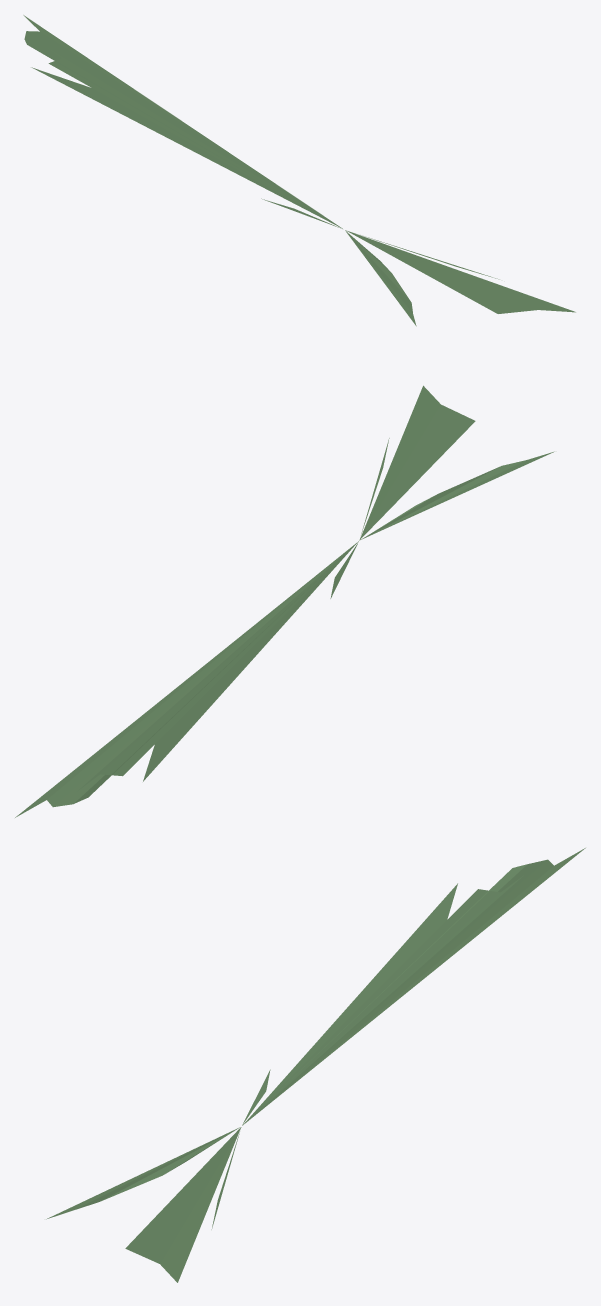
Rendered from c_1628_17815_forest.glb.
3 views of the same model, one above another, from view 1: azimuth 30°, elevation 25°; view 2: azimuth 150°, elevation 25°; view 3: azimuth 330°, elevation 25° (orthographic). The views are drawn at different scales.
Parts seen in each view (by area): view 1: geometry_0; view 2: geometry_0; view 3: geometry_0.
Boxes of the visible parts, x1=… form: geometry_0: x1=23, y1=15, x2=575, y2=326; geometry_0: x1=15, y1=385, x2=554, y2=817; geometry_0: x1=46, y1=848, x2=585, y2=1282.
Size of the model in its own units: 370 by 5.27 by 1807.
